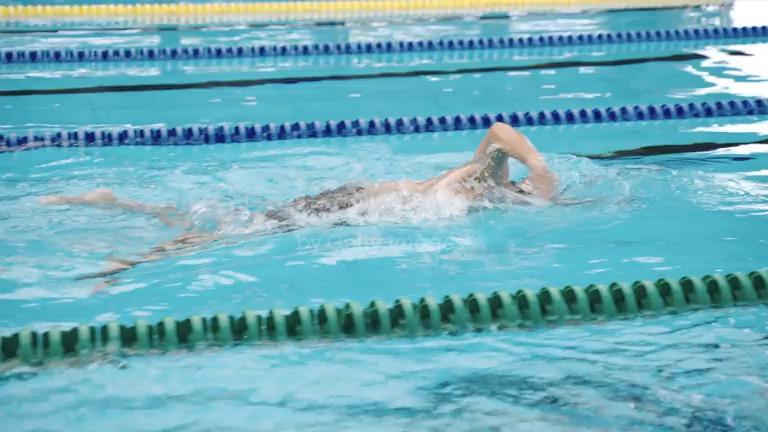Swimming: (43, 84, 648, 312)
